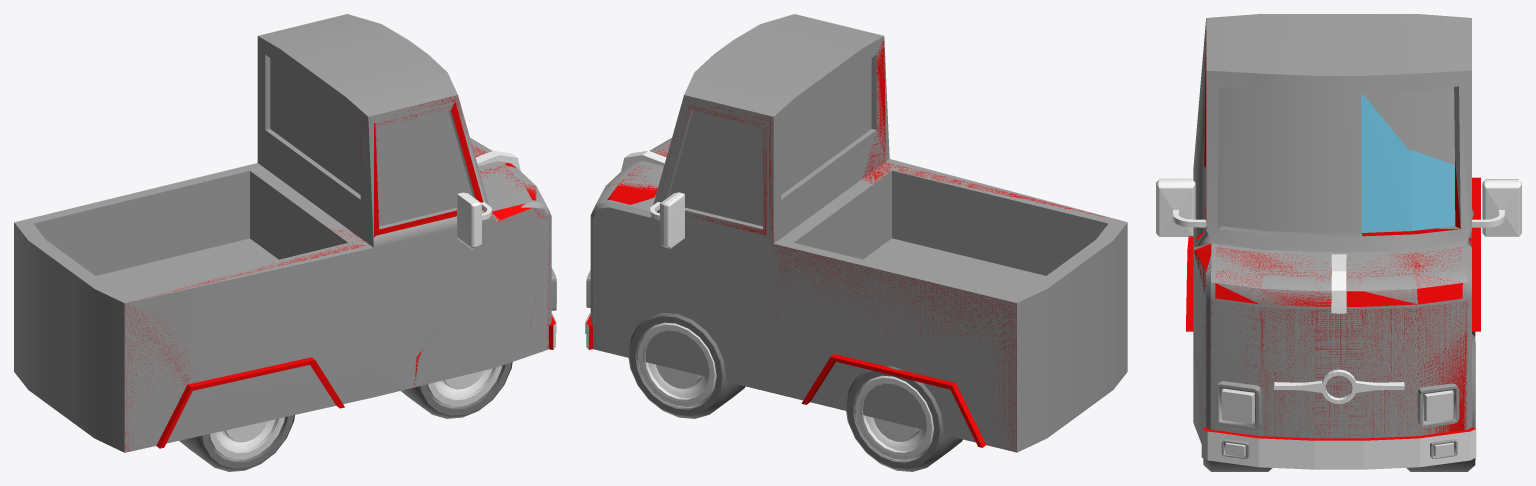
Rendered from Delivery Truck Unity.fbx.
3 renders of one model, left to right at view 1: azimuth 30°, elevation 25°; view 2: azimuth 150°, elevation 25°; view 3: azimuth 270°, elevation 25°, orthographic. The views are drawn at different scales.
Parts seen in each view (by area): view 1: pCube3, polySurface1, polySurface4, polySurface2, pCylinder18, pCylinder10, pCylinder15, pCylinder8, pCube4; view 2: pCube3, polySurface1, polySurface3, polySurface4, pCylinder13, pCylinder14, pCylinder16, pCylinder17, pCube5, polySurface2; view 3: pCube3, polySurface1, polySurface4, pCube10, pCube4, pCube5, polySurface2, pCylinder12, pCylinder13, pCylinder8, pCube8, pCube9.
Part boxes in pixels (bbox=[...]): pCube3: bbox=[15, 36, 551, 452]; polySurface1: bbox=[14, 14, 551, 452]; polySurface4: bbox=[124, 95, 555, 451]; polySurface2: bbox=[491, 207, 548, 353]; pCylinder18: bbox=[208, 417, 284, 460]; pCylinder10: bbox=[426, 365, 502, 407]; pCylinder15: bbox=[179, 415, 294, 471]; pCylinder8: bbox=[401, 362, 512, 418]; pCube4: bbox=[457, 192, 491, 248]; pCube3: bbox=[590, 36, 1122, 452]; polySurface1: bbox=[590, 14, 1127, 403]; polySurface3: bbox=[773, 245, 1016, 452]; polySurface4: bbox=[586, 38, 1117, 451]; pCylinder13: bbox=[628, 312, 745, 418]; pCylinder14: bbox=[637, 322, 716, 408]; pCylinder16: bbox=[855, 375, 933, 461]; pCylinder17: bbox=[846, 366, 962, 471]; pCube5: bbox=[650, 192, 684, 248]; polySurface2: bbox=[593, 231, 773, 354]; pCube3: bbox=[1193, 23, 1471, 439]; polySurface1: bbox=[1193, 14, 1471, 443]; polySurface4: bbox=[1186, 31, 1480, 469]; pCube10: bbox=[1215, 381, 1459, 430]; pCube4: bbox=[1156, 178, 1206, 236]; pCube5: bbox=[1472, 179, 1521, 236]; polySurface2: bbox=[1193, 238, 1471, 436]; pCylinder12: bbox=[1273, 369, 1404, 403]; pCylinder13: bbox=[1406, 334, 1475, 471]; pCylinder8: bbox=[1203, 458, 1272, 471]; pCube8: bbox=[1221, 439, 1249, 458]; pCube9: bbox=[1430, 439, 1457, 458].
Bounding box in the file's own units: 4.31 × 2.97 × 2.49.
